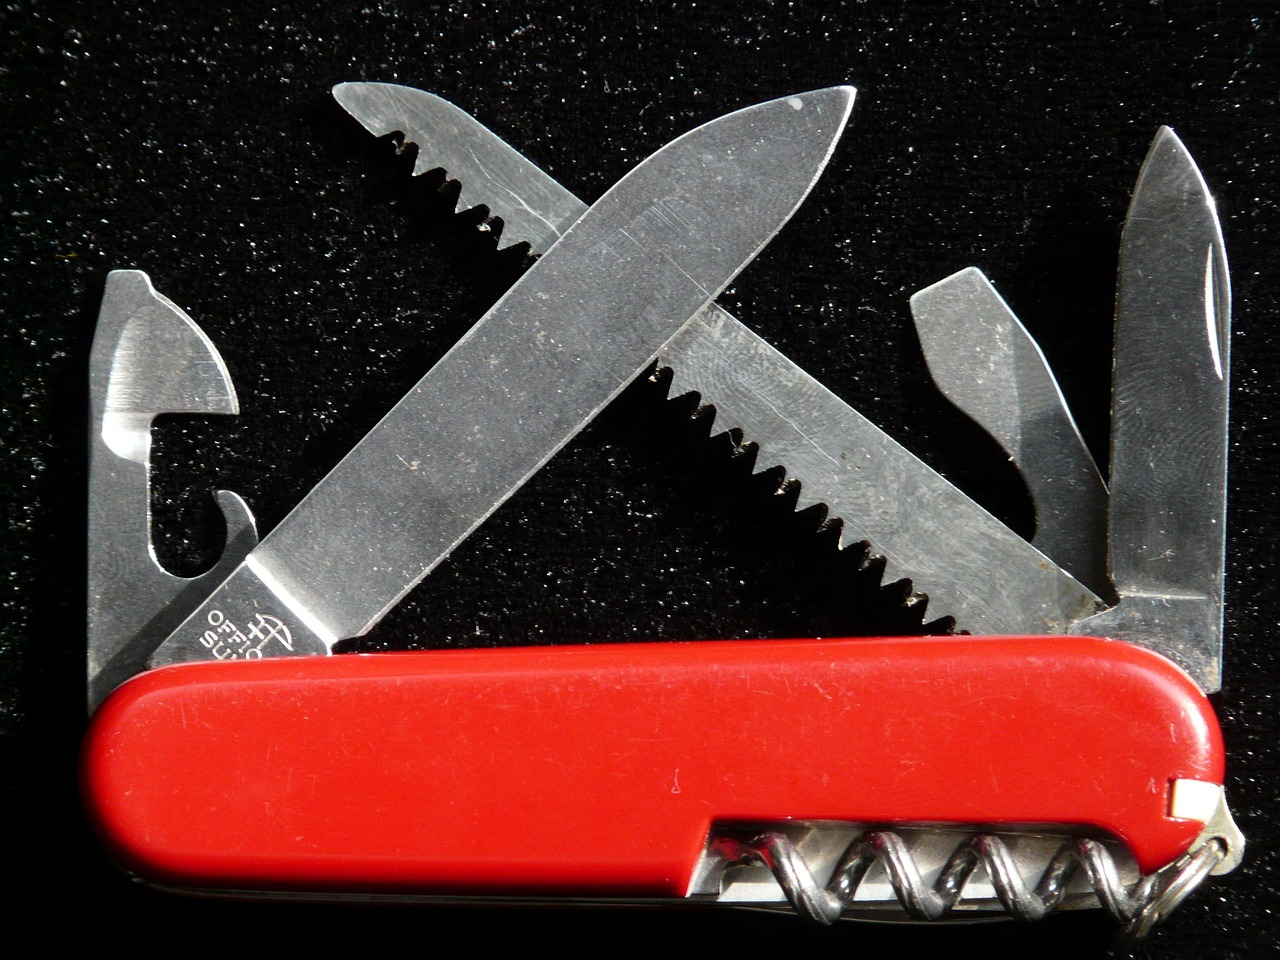knife: (327, 72, 1107, 639), (146, 87, 857, 683), (1063, 118, 1237, 698), (85, 263, 263, 721), (906, 261, 1124, 602)
